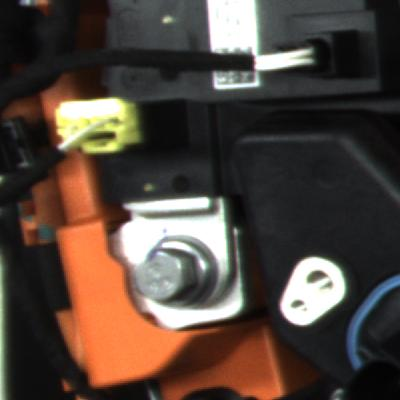nut_b: (125, 228, 225, 312)
